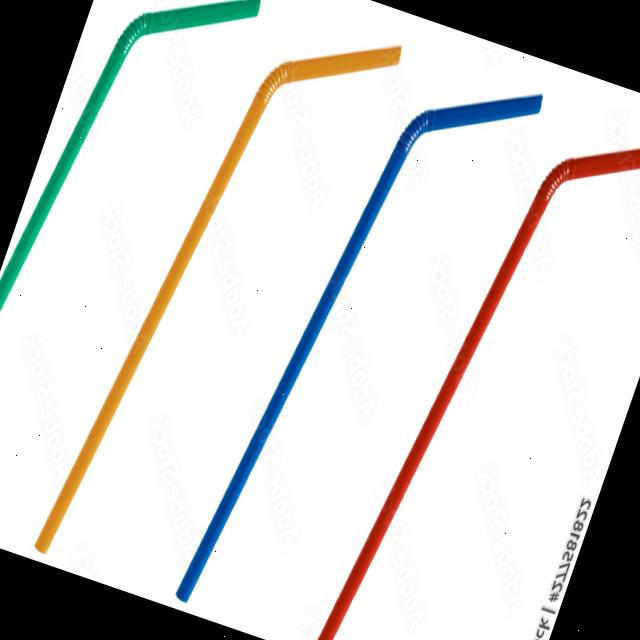plastic: (0, 0, 277, 574)
